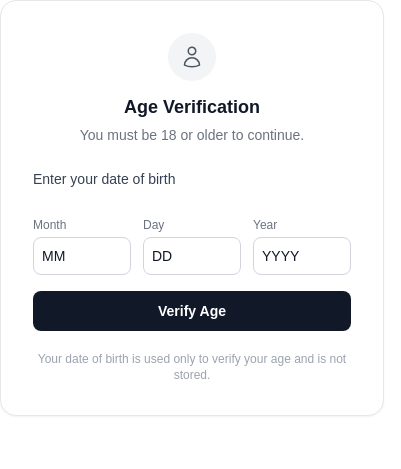
Scenario: AgeGate — empty input validation › shows an error when only month is selected
The image size is (401, 469).
Select "January" in the dropdown labelled "Month" at (82, 256), box [33, 237, 131, 275]
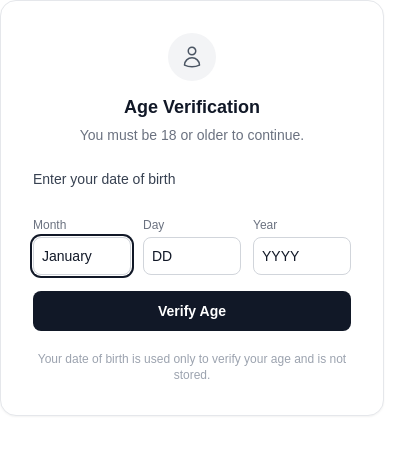
Click the button "Verify Age".
click(192, 311)  # box [33, 291, 351, 331]
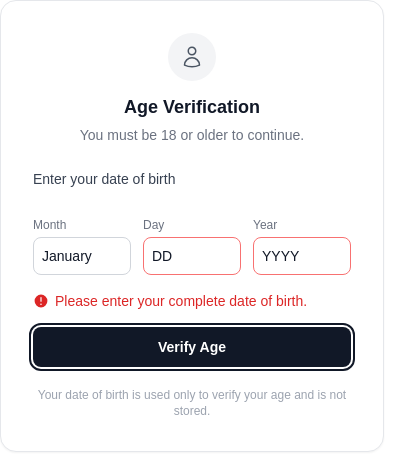
Expected: the message shows "complete date of birth", [55, 293, 307, 309]
